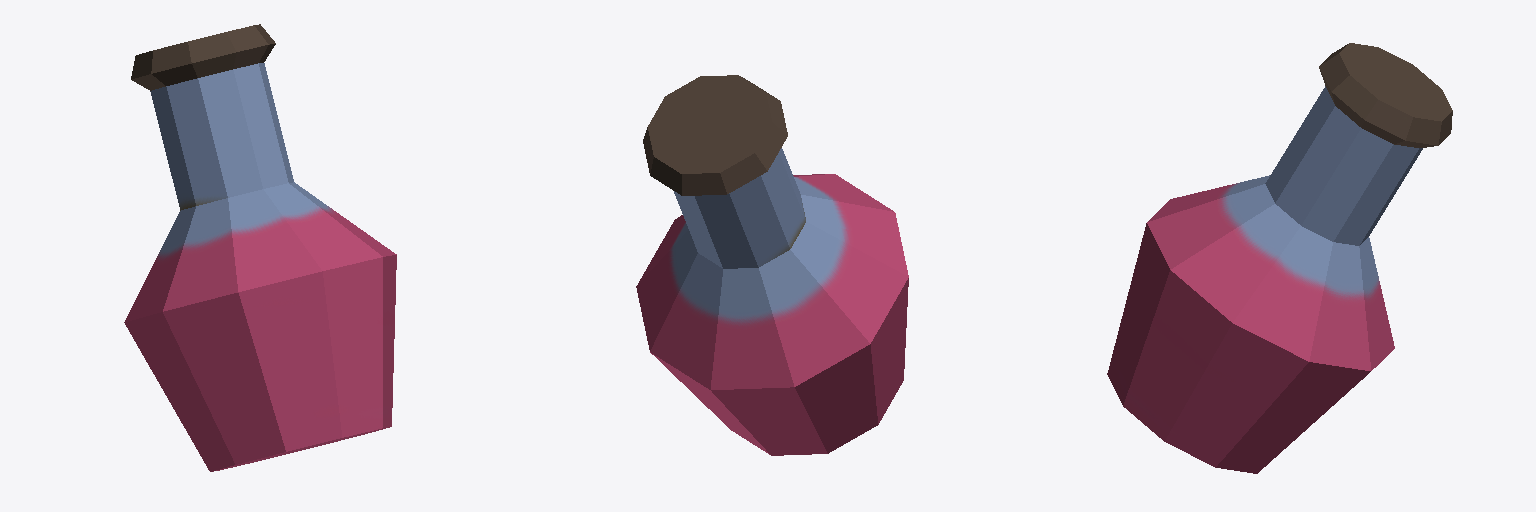
3 renders of one model, left to right at view 1: azimuth 30°, elevation 25°; view 2: azimuth 150°, elevation 25°; view 3: azimuth 270°, elevation 25°, orthographic.
Visible parts, largest first — view 1: HPpotion_HPpotion_HPpotion_Hpotion; view 2: HPpotion_HPpotion_HPpotion_Hpotion; view 3: HPpotion_HPpotion_HPpotion_Hpotion.
Boxes of the visible parts, box(x1,y1,x2,y2) form: HPpotion_HPpotion_HPpotion_Hpotion: box(124, 24, 396, 471); HPpotion_HPpotion_HPpotion_Hpotion: box(636, 75, 908, 455); HPpotion_HPpotion_HPpotion_Hpotion: box(1107, 43, 1452, 473).
Bounding box in the file's own units: 1.56 × 2.58 × 2.
Materials: 1 (1 with a texture image).